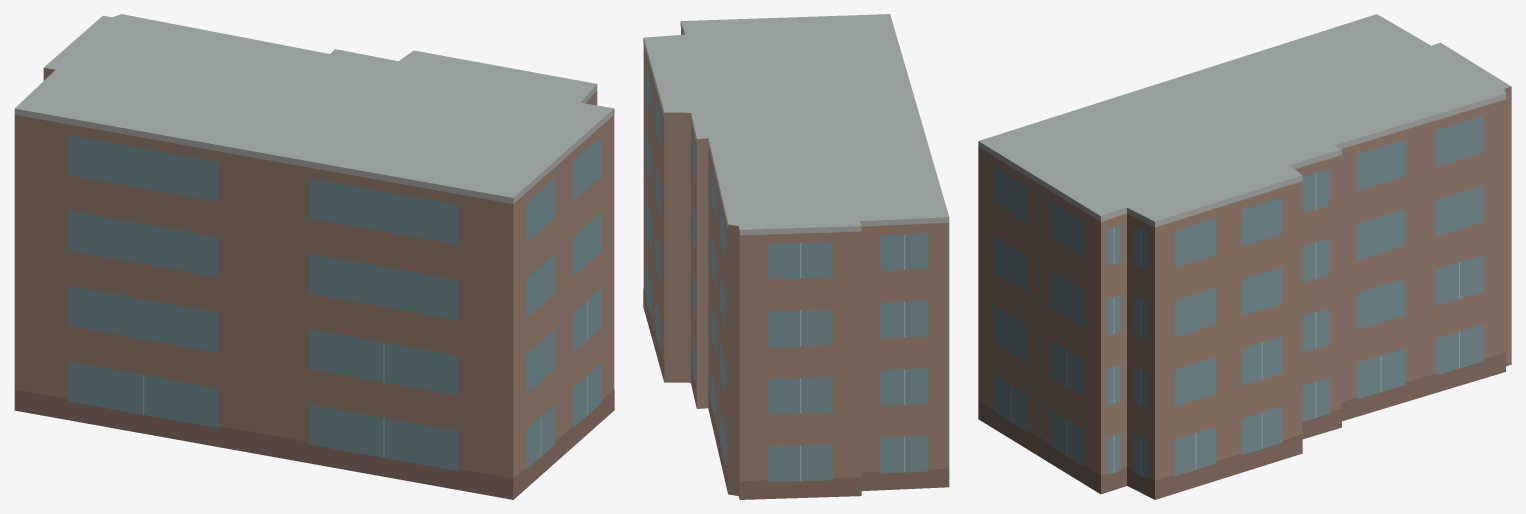
File: survey-upis-32910571.glb
3 views of the same model, side by side, from view 1: azimuth 30°, elevation 25°; view 2: azimuth 150°, elevation 25°; view 3: azimuth 270°, elevation 25° (orthographic). The views are drawn at different scales.
Visible parts, largest first — view 1: survey-upis-32910571.tmp; view 2: survey-upis-32910571.tmp; view 3: survey-upis-32910571.tmp.
Part boxes in pixels (x1,y1,x2,y2): survey-upis-32910571.tmp: (14,14,614,499); survey-upis-32910571.tmp: (643,14,949,499); survey-upis-32910571.tmp: (978,14,1511,499).
Bounding box in the file's own units: 19.24 × 12 × 20.87.
